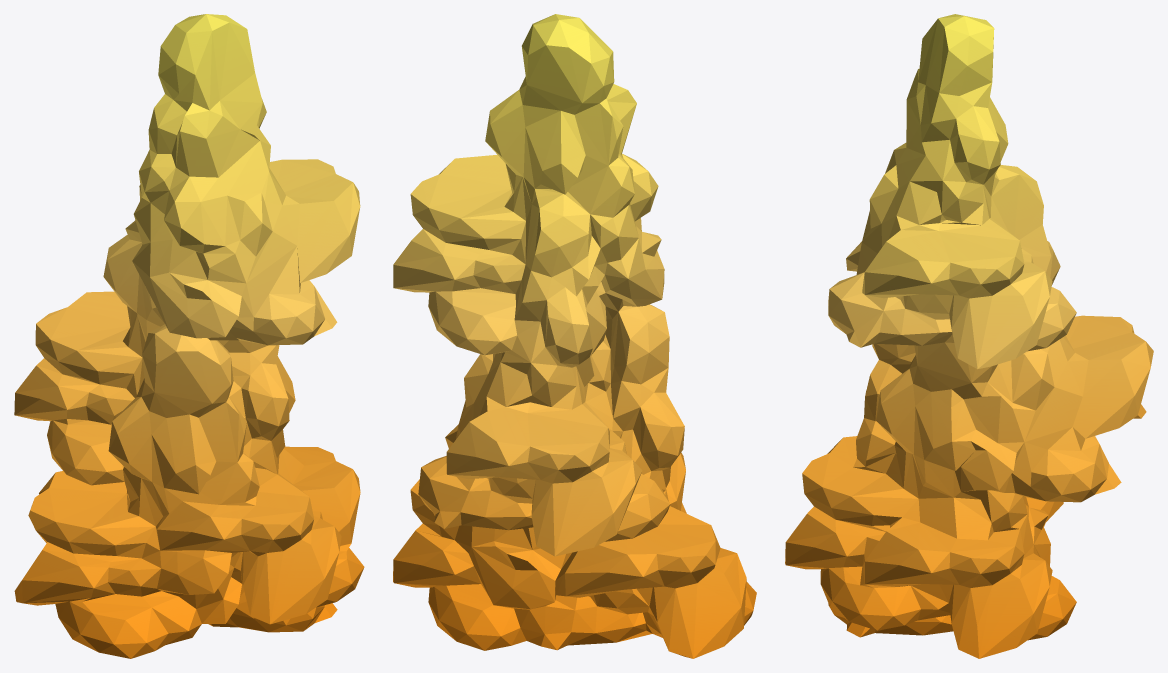
Rendered from SM_Rock_9.fbx.
The picture shows the model from 3 angles, left to right: view 1: azimuth 30°, elevation 25°; view 2: azimuth 150°, elevation 25°; view 3: azimuth 270°, elevation 25°; orthographic projection. The views are drawn at different scales.
Parts seen in each view (by area): view 1: Rock_9; view 2: Rock_9; view 3: Rock_9.
Part boxes in pixels (x1,y1,x2,y2): Rock_9: (14,14,364,658); Rock_9: (393,14,756,658); Rock_9: (785,14,1153,658).
Size of the model in its own units: 1207 by 2037 by 1165.
